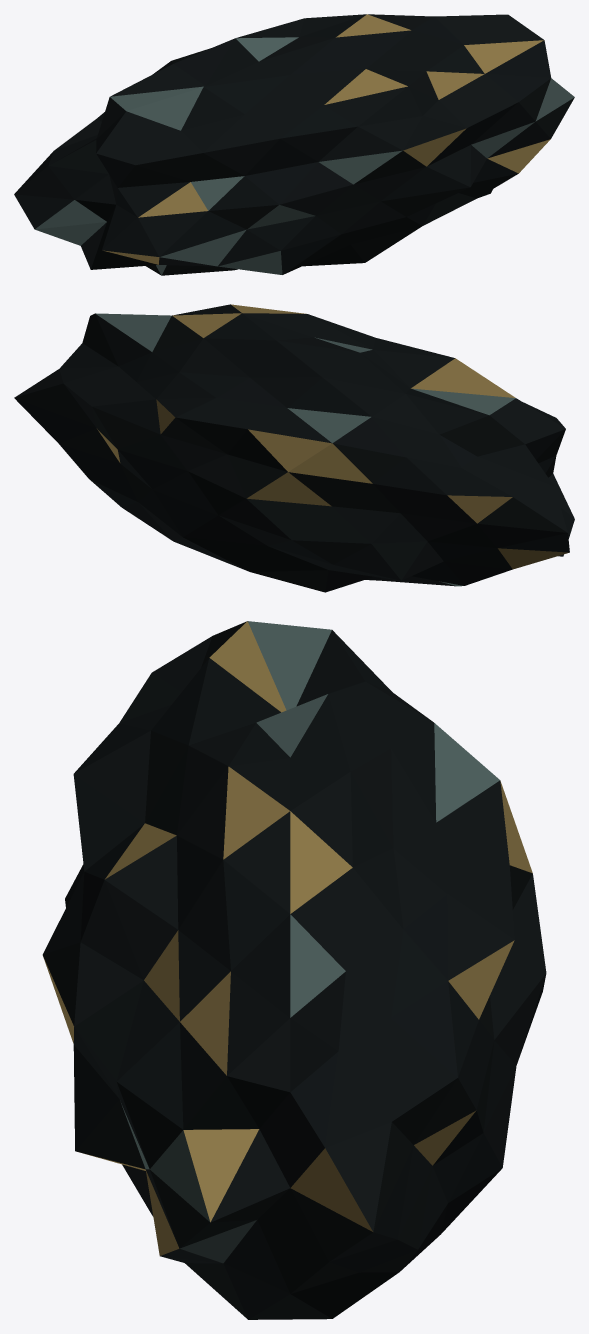
The model's file is SM_MP_Asteroid_Shard.fbx.
3 renders of one model, top to bottom at view 1: azimuth 30°, elevation 25°; view 2: azimuth 150°, elevation 25°; view 3: azimuth 270°, elevation 25°, orthographic. The views are drawn at different scales.
Parts seen in each view (by area): view 1: SM_MP_Asteroid_Shard; view 2: SM_MP_Asteroid_Shard; view 3: SM_MP_Asteroid_Shard.
Boxes of the visible parts, x1,y1,x2,y2 form: SM_MP_Asteroid_Shard: [14, 14, 574, 275]; SM_MP_Asteroid_Shard: [14, 304, 574, 592]; SM_MP_Asteroid_Shard: [42, 621, 546, 1319].
Bounding box in the file's own units: 2610 × 1074 × 1075.
Materials: 1 (1 with a texture image).
